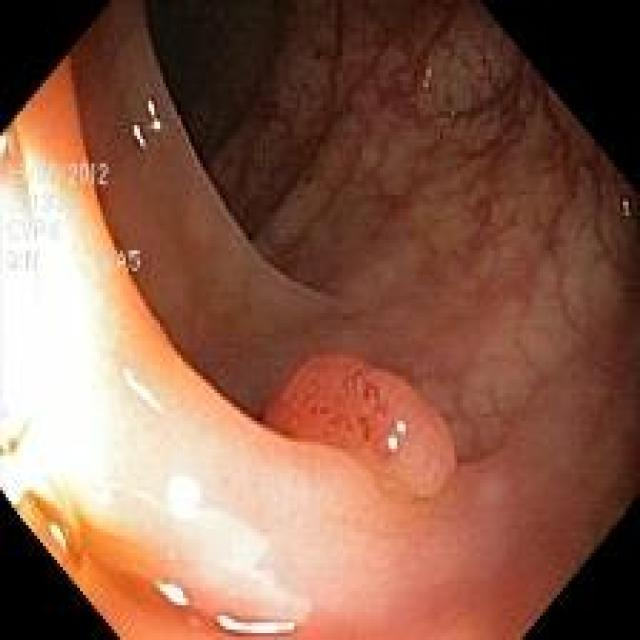Polyps: (264, 352, 455, 497)
